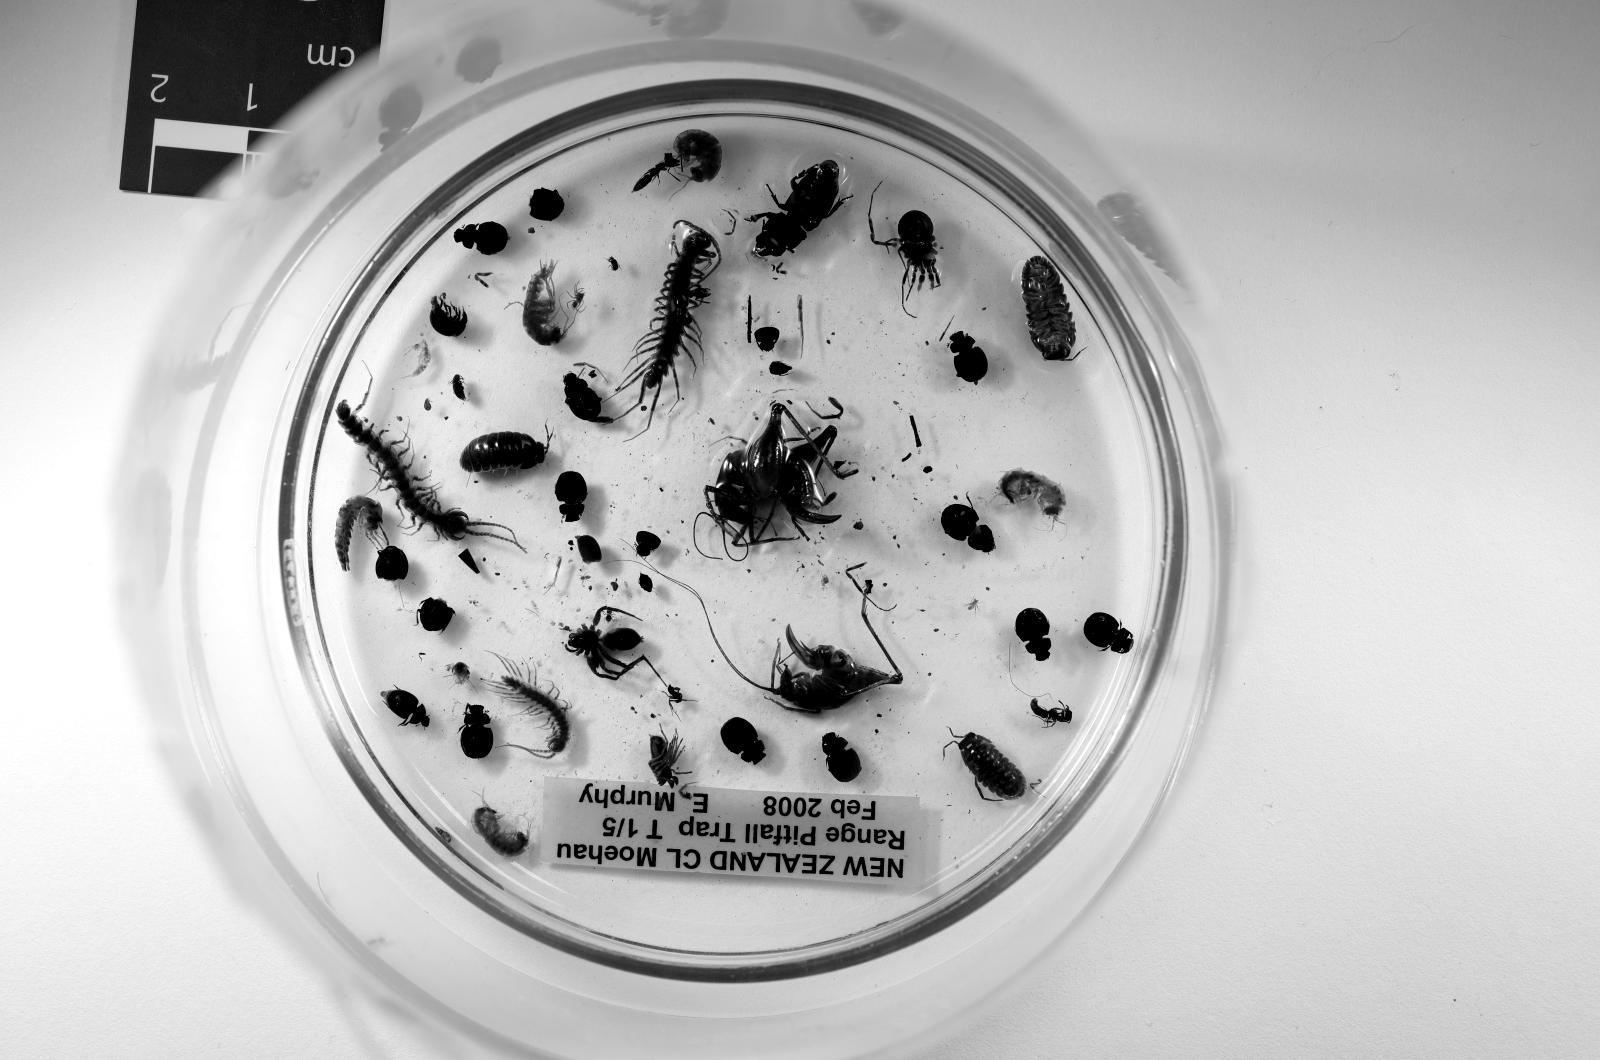amphipoda: (522, 261, 584, 348), (997, 469, 1066, 522), (472, 804, 528, 857), (675, 130, 722, 183)
araneae: (566, 606, 650, 680), (650, 733, 681, 786)
archaeognatha: (334, 497, 388, 571)
chilopoda: (334, 379, 519, 547), (616, 220, 722, 419), (484, 658, 572, 758)
coleoptera: (747, 158, 847, 258), (941, 503, 994, 553), (1084, 612, 1134, 655), (722, 717, 766, 764), (822, 733, 862, 783), (453, 220, 509, 255), (1016, 609, 1053, 661), (950, 332, 988, 382), (459, 705, 494, 758), (381, 689, 428, 727), (553, 472, 588, 522), (428, 295, 469, 335), (566, 373, 600, 419), (453, 376, 466, 401)
collembola: (403, 335, 431, 379)
diptera: (609, 258, 619, 270)
formicidae: (634, 152, 678, 193), (1028, 699, 1072, 727)
isopoda: (1019, 255, 1075, 360), (953, 733, 1025, 801), (459, 432, 547, 472)
opiliones: (869, 202, 941, 311)
orthoptera: (738, 581, 903, 714), (703, 401, 841, 550)
